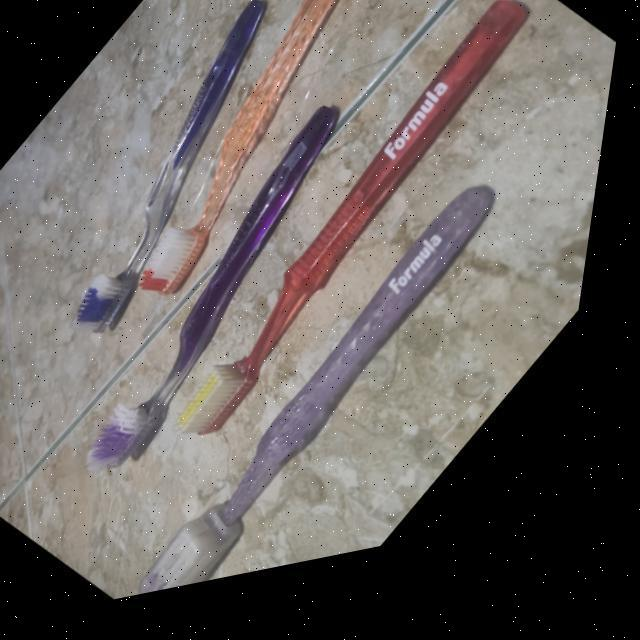toothbrush: (131, 0, 600, 500), (117, 164, 558, 610), (34, 71, 438, 521), (56, 1, 488, 352), (0, 0, 372, 392)
